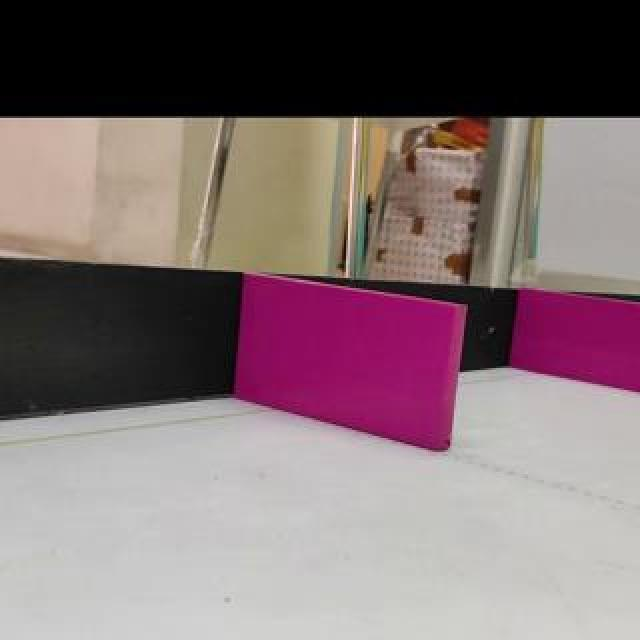xparking: (233, 273, 462, 452), (511, 288, 640, 393)
